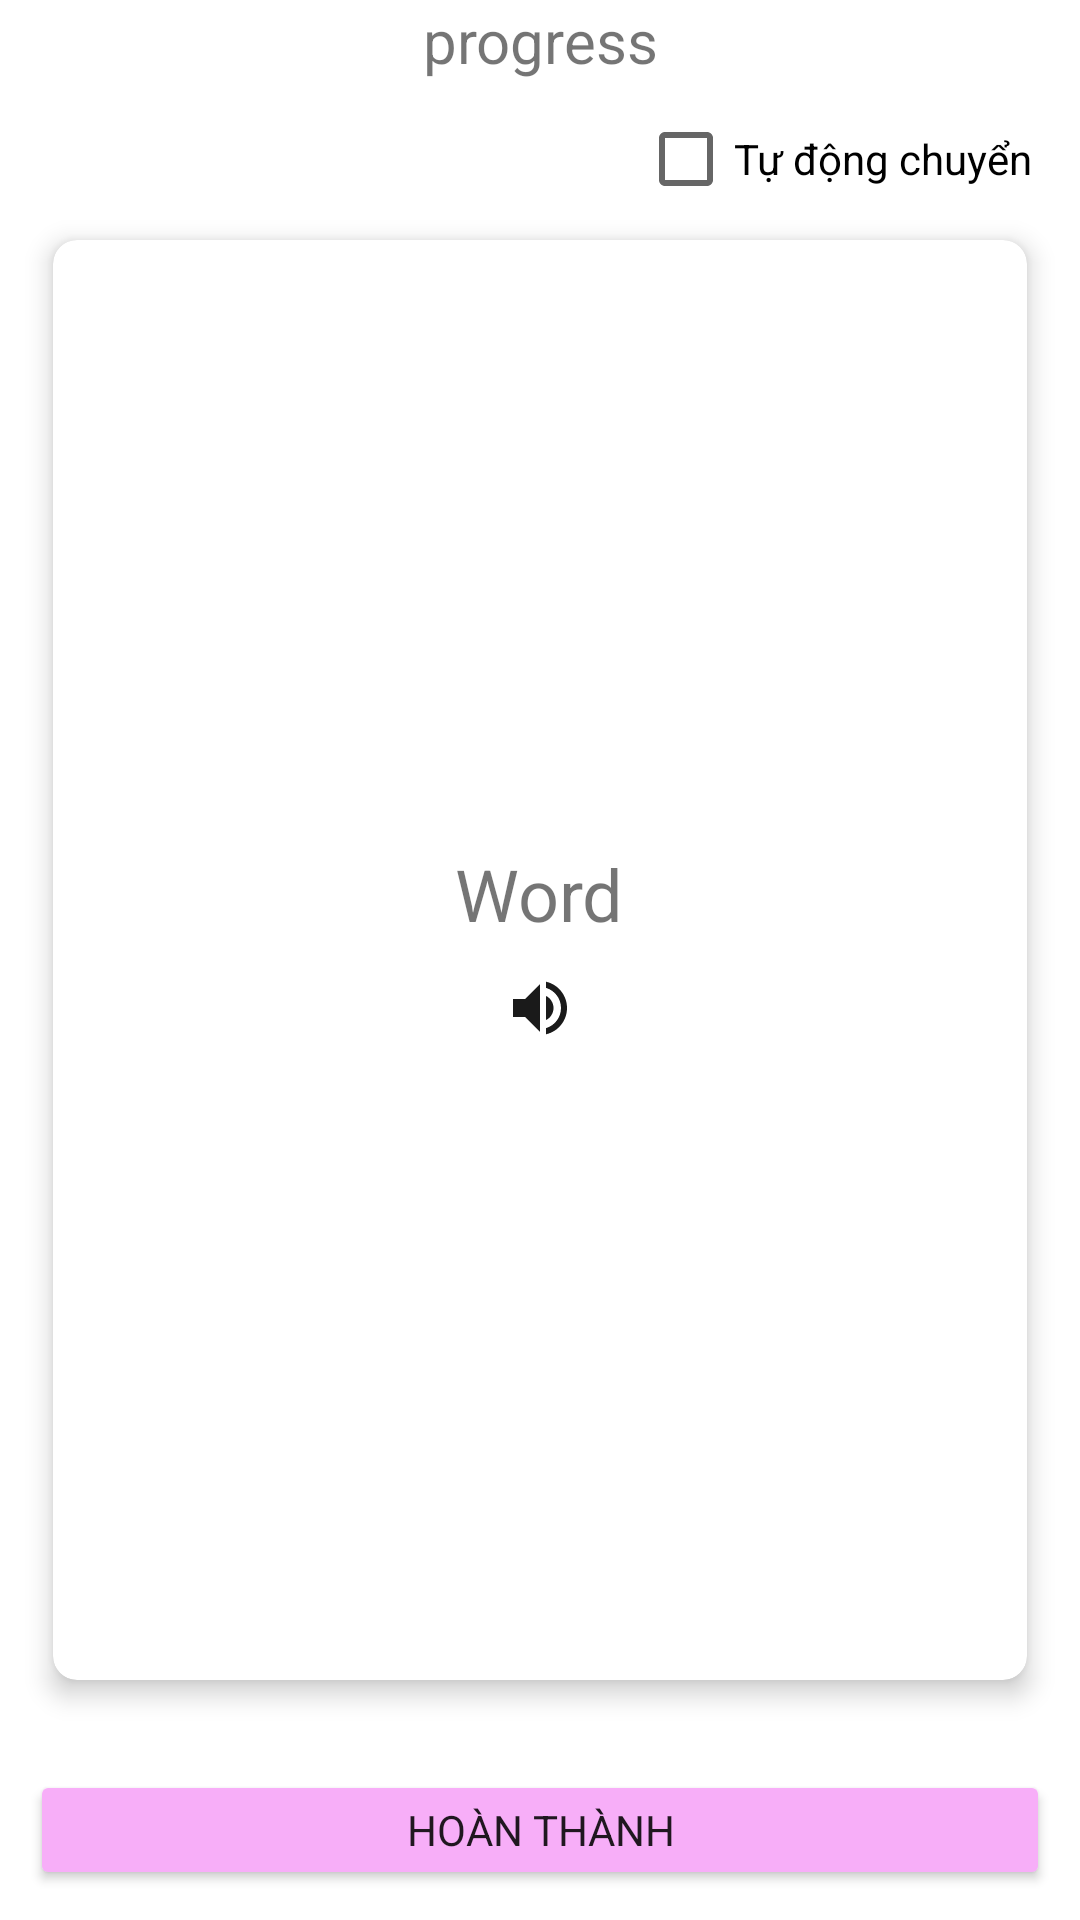

Icons on this 1080 x 1920 Android screen, each with its box as (x1, y1, x2, y2):
volume up: (513, 981, 567, 1035)
